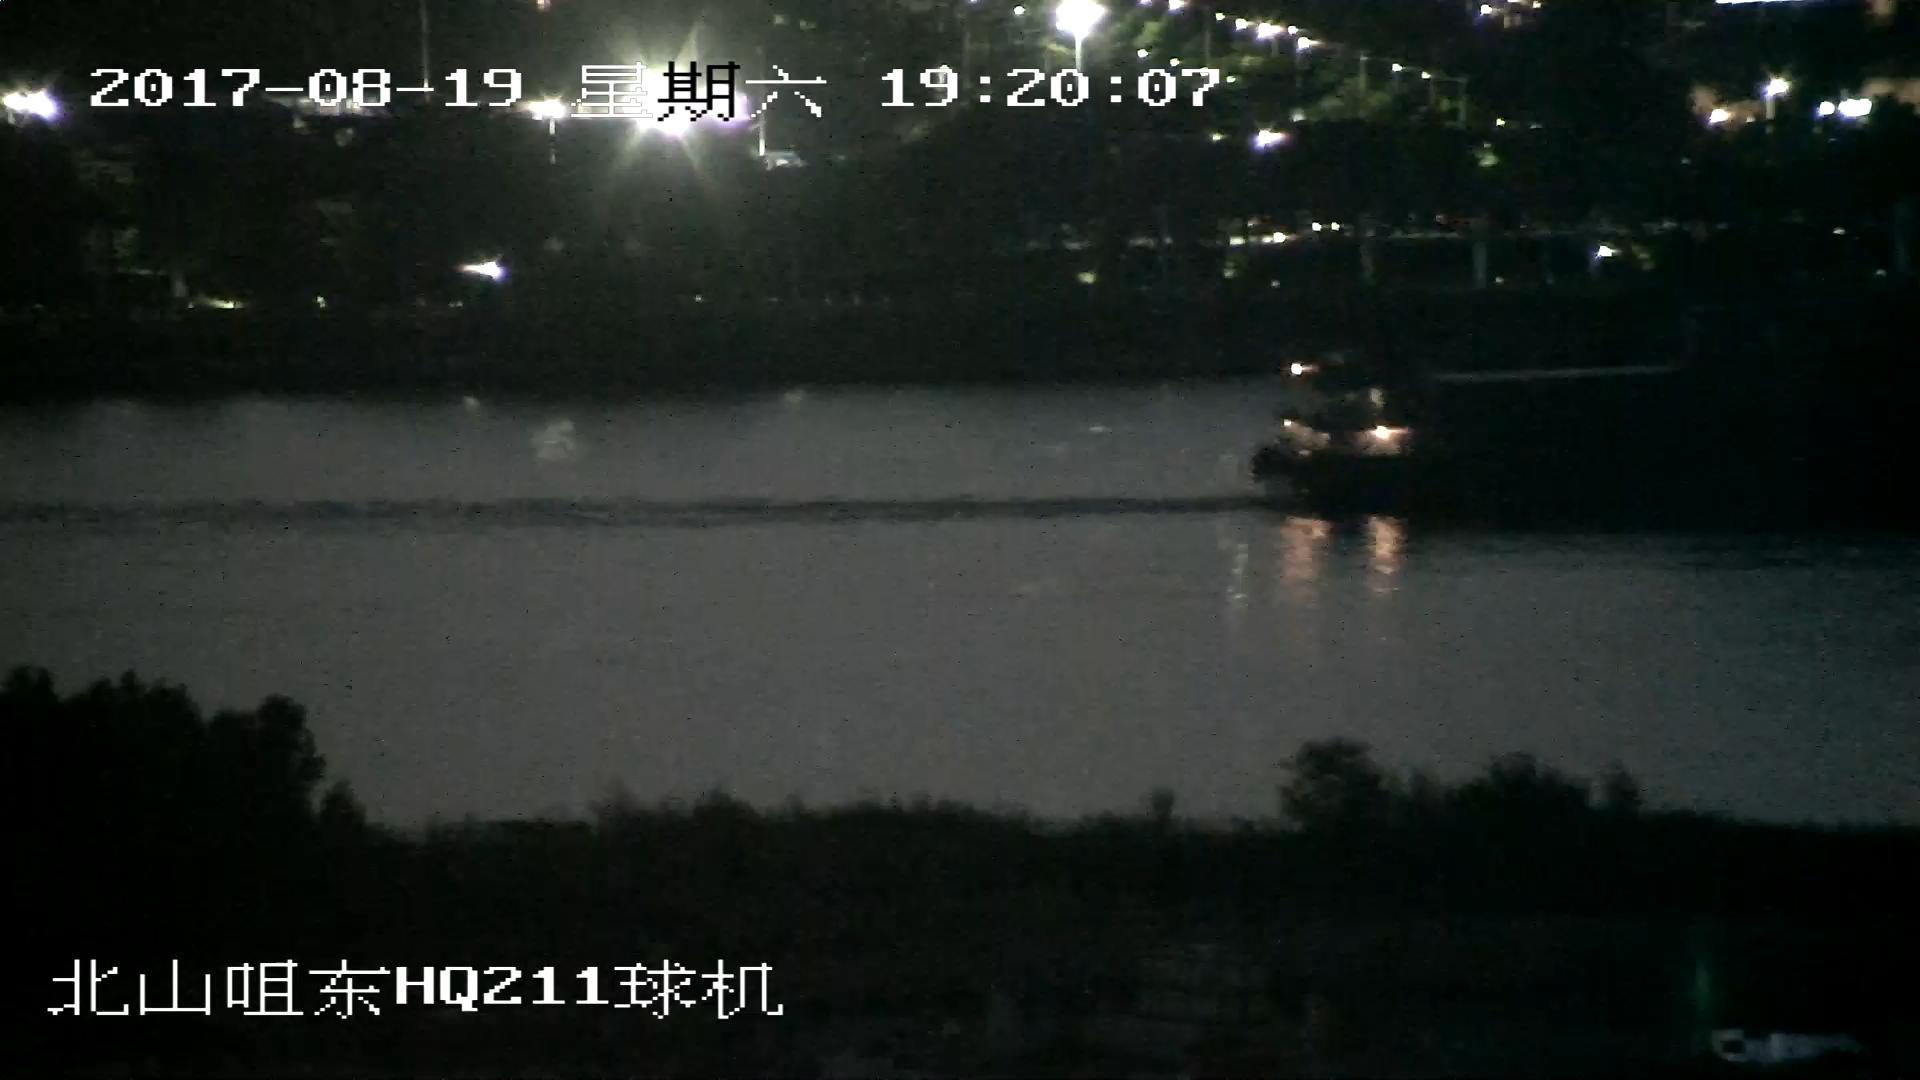container ship: (1267, 323, 1920, 536)
